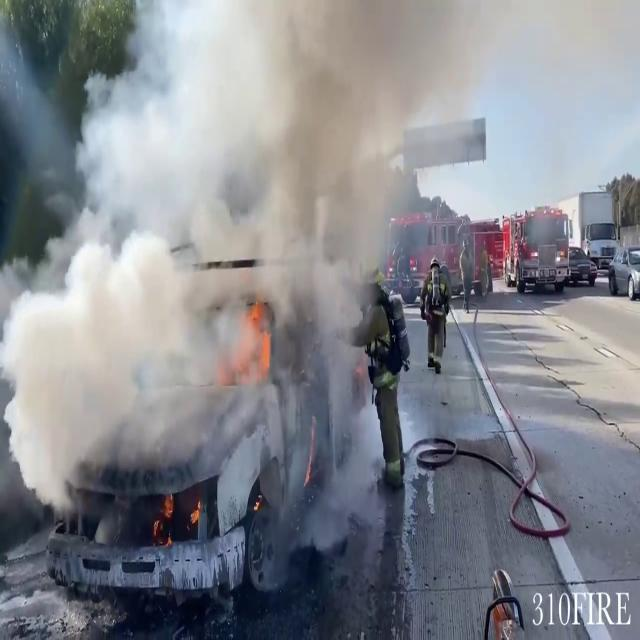Smoke: (0, 0, 448, 520)
